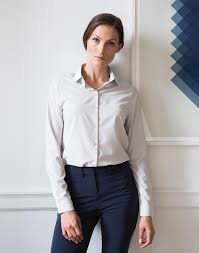F_W_pants: (50, 161, 142, 252)
F_shirt: (41, 62, 151, 186)
